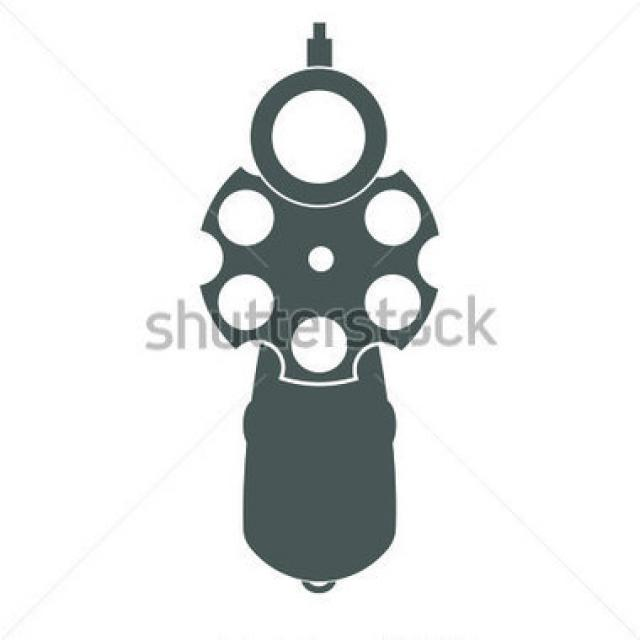handgun: (194, 12, 436, 591)
